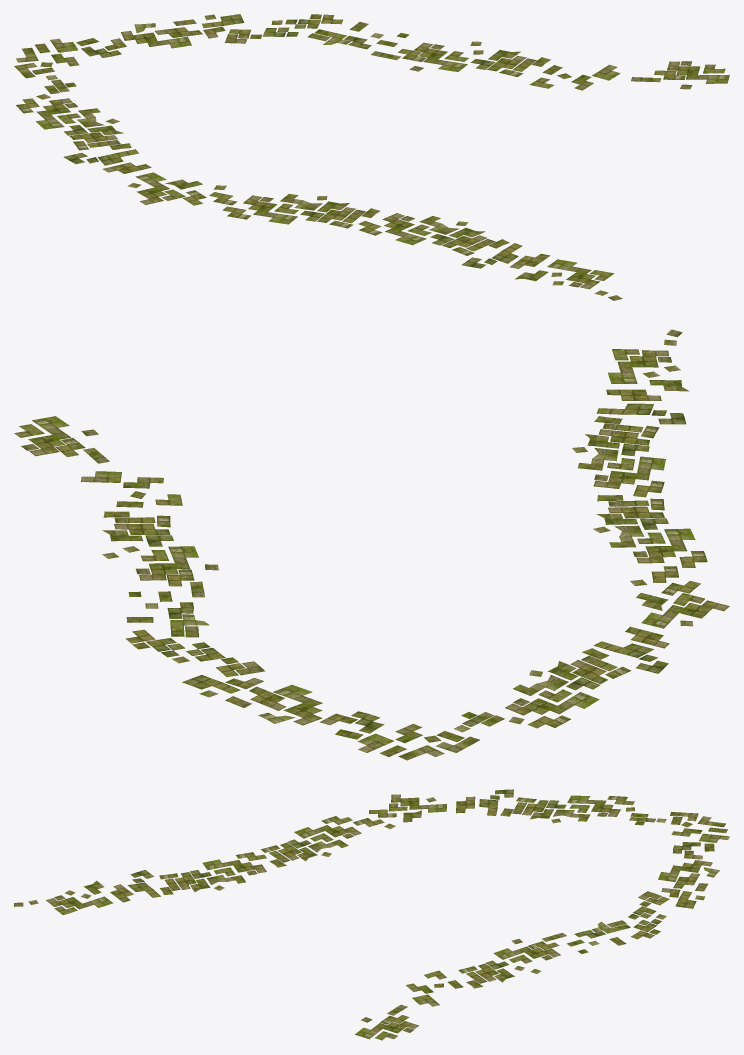
The model's file is mesh_chapter5_boss_road.FBX.
3 renders of one model, top to bottom at view 1: azimuth 30°, elevation 25°; view 2: azimuth 150°, elevation 25°; view 3: azimuth 270°, elevation 25°, orthographic. The views are drawn at different scales.
Visible parts, largest first — view 1: mesh_chapter5_boss_road; view 2: mesh_chapter5_boss_road; view 3: mesh_chapter5_boss_road.
Boxes of the visible parts, x1=… form: mesh_chapter5_boss_road: x1=14, y1=14, x2=729, y2=300; mesh_chapter5_boss_road: x1=14, y1=329, x2=729, y2=760; mesh_chapter5_boss_road: x1=14, y1=789, x2=729, y2=1040.
Bounding box in the file's own units: 80.35 × 1.04e-06 × 96.82.
